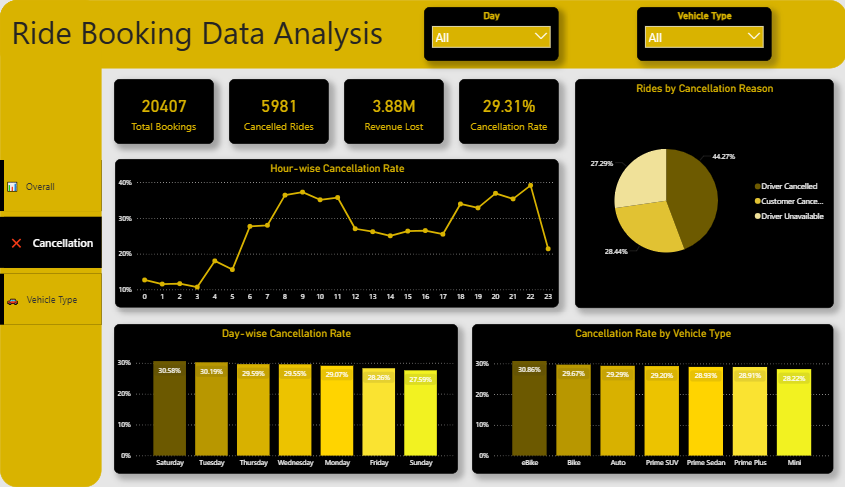

This screenshot's page, from the dashboard's own definition file:
{"tool":"powerbi","page":{"name":"❌   Cancellation","canvas":[1460,840],"ordinal":1},"visuals":[{"type":"shape","title":"Menu BG","box":[0,0,1460,118.3],"z":0},{"type":"card","fields":{"Values":["rides.Total Bookings"]},"box":[196.5,136.8,171.9,112.3],"z":0,"group":"g1"},{"type":"shape","title":"Menu BG","box":[0,0,175.4,840.4],"z":1000},{"type":"pageNavigator","title":"Menu Buttons","box":[0,275.4,175.4,284.2],"z":2000},{"type":"pageNavigator","title":"Menu Buttons","box":[7,275.4,168.4,284.2],"z":3000},{"type":"textbox","box":[0,12.3,678.9,93],"z":4000},{"type":"slicer","title":"Day","fields":{"Values":["rides.Day"]},"box":[731.6,12.3,231.6,93],"z":5000},{"type":"group","id":"g1","title":"Group 1","box":[196.5,136.8,1240.4,680.7],"z":6000},{"type":"card","fields":{"Values":["rides.Cancelled Rides"]},"box":[394.7,136.8,171.9,112.3],"z":6000,"group":"g1"},{"type":"card","fields":{"Values":["rides.Revenue Lost"]},"box":[593,136.8,171.9,112.3],"z":7000,"group":"g1"},{"type":"slicer","title":"Vehicle Type","fields":{"Values":["rides.Vehicle_Type"]},"box":[1098.2,12.3,231.6,93],"z":8000},{"type":"card","fields":{"Values":["rides.Cancellation Rate"]},"box":[791.2,136.8,171.9,112.3],"z":8000,"group":"g1"},{"type":"lineChart","title":"Hour-wise Cancellation Rate","fields":{"Y":["rides.Cancellation Rate"],"Category":["rides.Hour"]},"box":[198.3,275.4,764.9,256.1],"z":9000,"group":"g1"},{"type":"columnChart","title":"Day-wise Cancellation Rate","fields":{"Category":["rides.Day"],"Y":["rides.Cancellation Rate"]},"box":[196.5,559.6,593,257.9],"z":10000,"group":"g1"},{"type":"pieChart","title":"Rides by Cancellation Reason","fields":{"Category":["rides.Cancel_Reason"],"Y":["rides.Cancelled Rides"]},"box":[991.2,136.8,445.6,394.7],"z":11000,"group":"g1"},{"type":"columnChart","title":"Cancellation Rate by Vehicle Type","fields":{"Category":["rides.Vehicle_Type"],"Y":["rides.Cancellation Rate"]},"box":[814,559.6,622.8,257.9],"z":12000,"group":"g1"}]}

Visuals, with their boxes in screenshot pixels (x1, y1, x2, y2), scaled from the page's 1460x840 canvas onto the 845x487 screenshot:
"Menu BG" shape: 0,0,844,69
card - rides.Total Bookings: 114,79,213,144
"Menu BG" shape: 0,0,102,486
"Menu Buttons" pageNavigator: 0,160,102,324
"Menu Buttons" pageNavigator: 4,160,102,324
textbox: 0,7,393,61
"Day" slicer: 423,7,557,61
"Group 1" group: 114,79,832,474
card - rides.Cancelled Rides: 228,79,328,144
card - rides.Revenue Lost: 343,79,443,144
"Vehicle Type" slicer: 636,7,770,61
card - rides.Cancellation Rate: 458,79,557,144
"Hour-wise Cancellation Rate" lineChart: 115,160,557,308
"Day-wise Cancellation Rate" columnChart: 114,324,457,474
"Rides by Cancellation Reason" pieChart: 574,79,832,308
"Cancellation Rate by Vehicle Type" columnChart: 471,324,832,474
